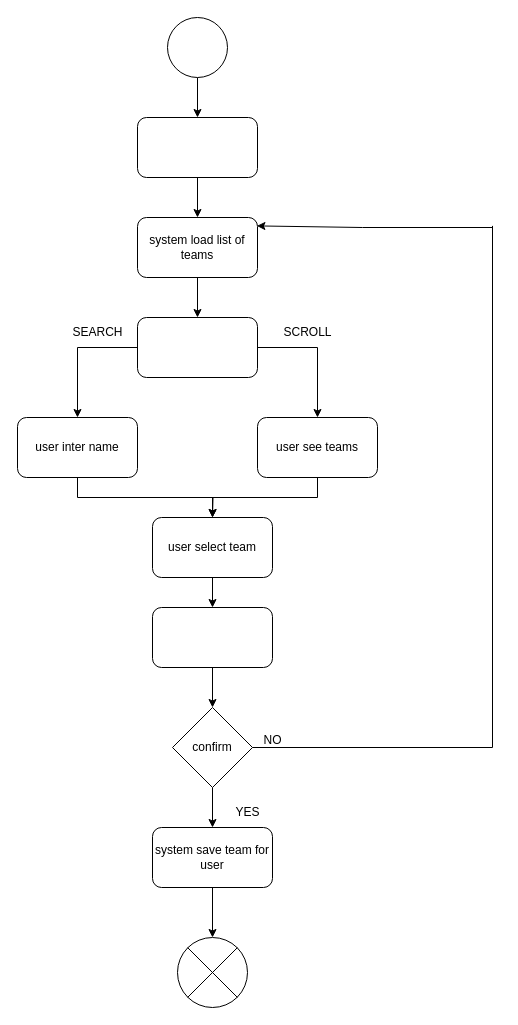
The diagram is 518 pixels wide and 1025 high, and some of its shapes have lost their labels. Here are the shapes that lost their labels. From the top down, the box of each, then its label:
(136, 116, 258, 178): click MYTEAM
(136, 316, 258, 378): user can search or scroll
(152, 606, 272, 668): system display team details
